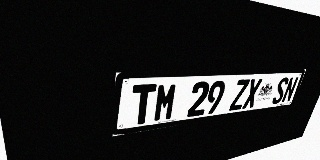2: (187, 81, 211, 117)
9: (204, 80, 227, 115)
M: (153, 83, 178, 122)
N: (281, 77, 299, 103)
S: (271, 77, 290, 105)
T: (130, 84, 157, 126)
X: (242, 79, 263, 109)
Z: (229, 79, 250, 111)
